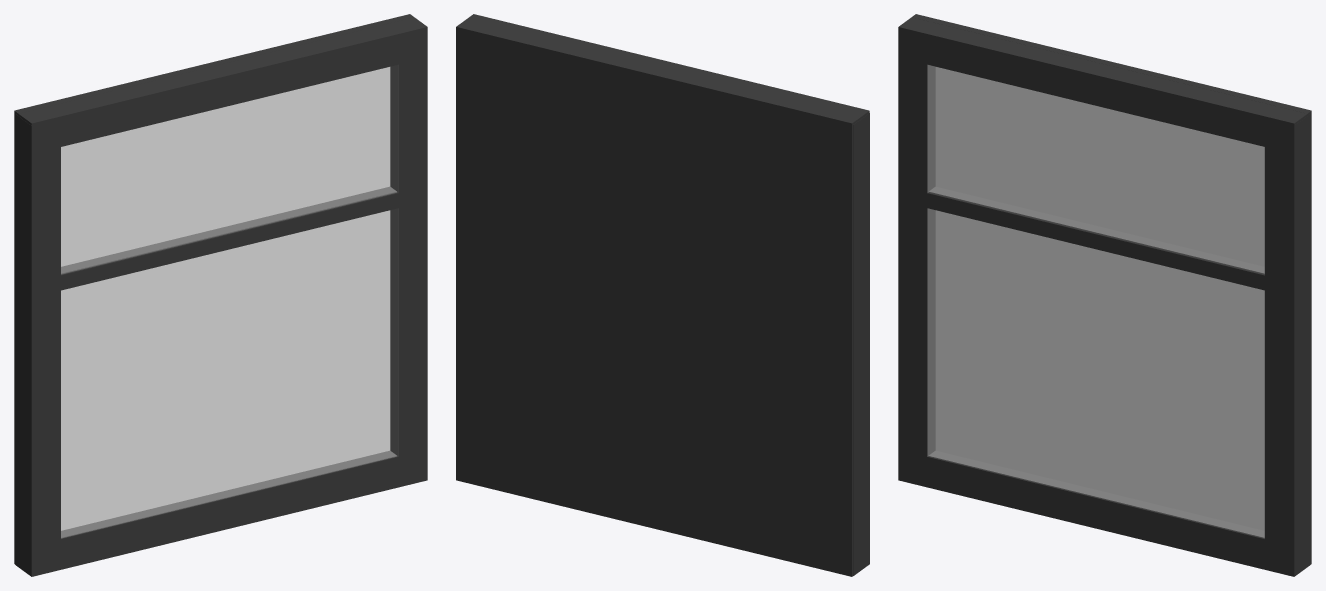
File: window.obj
3 views of the same model, side by side, from view 1: azimuth 30°, elevation 25°; view 2: azimuth 150°, elevation 25°; view 3: azimuth 330°, elevation 25° (orthographic).
Visible parts, largest first — view 1: pasted__pCube1; view 2: pasted__pCube1; view 3: pasted__pCube1.
Part boxes in pixels (left/top/right/bottom): pasted__pCube1: left=14, top=14, right=427, bottom=576; pasted__pCube1: left=456, top=14, right=869, bottom=576; pasted__pCube1: left=898, top=14, right=1311, bottom=576.
Bounding box in the file's own units: 1.07 × 1.17 × 0.0823.
Materials: 5 (5 with a texture image).
